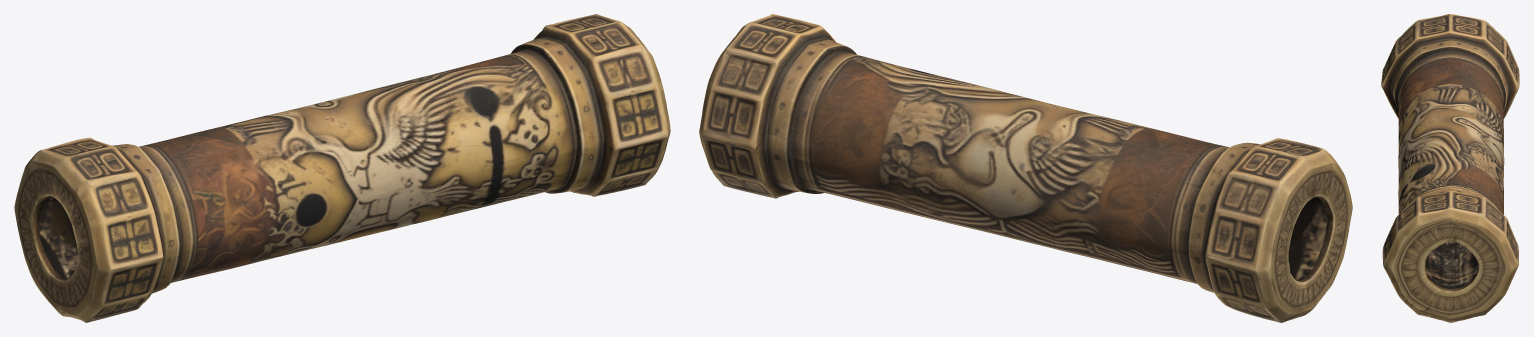
File: Meshy_AI_Crane_Engraved_Bronze_0822064002_texture.fbx
The picture shows the model from 3 angles, left to right: view 1: azimuth 30°, elevation 25°; view 2: azimuth 150°, elevation 25°; view 3: azimuth 270°, elevation 25°; orthographic projection. The views are drawn at different scales.
Parts seen in each view (by area): view 1: output_unwrapped; view 2: output_unwrapped; view 3: output_unwrapped.
Part boxes in pixels (box(x1,y1,x2,y2)): output_unwrapped: box(14, 14, 670, 322); output_unwrapped: box(699, 14, 1352, 322); output_unwrapped: box(1381, 14, 1519, 322).
Size of the model in its own units: 200 by 52.87 by 58.18.
1 material, 1 textured.
